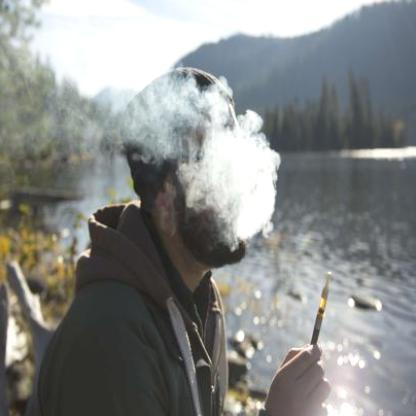cigarette: (310, 272, 333, 345)
person: (43, 82, 242, 415)
smoke: (189, 108, 282, 241), (130, 89, 201, 161)
